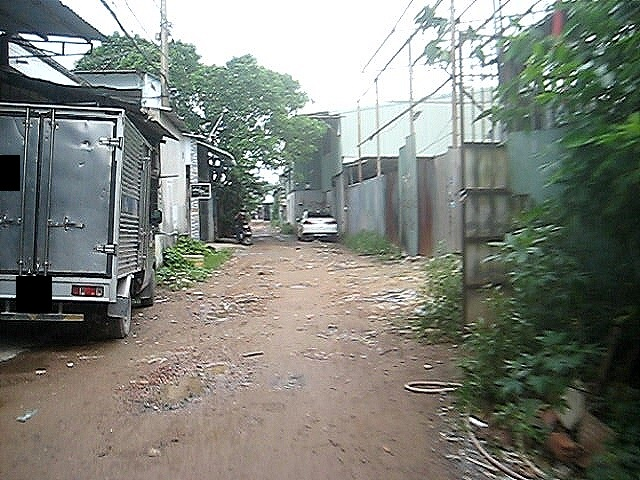hole: (122, 343, 247, 416), (188, 291, 266, 327)
